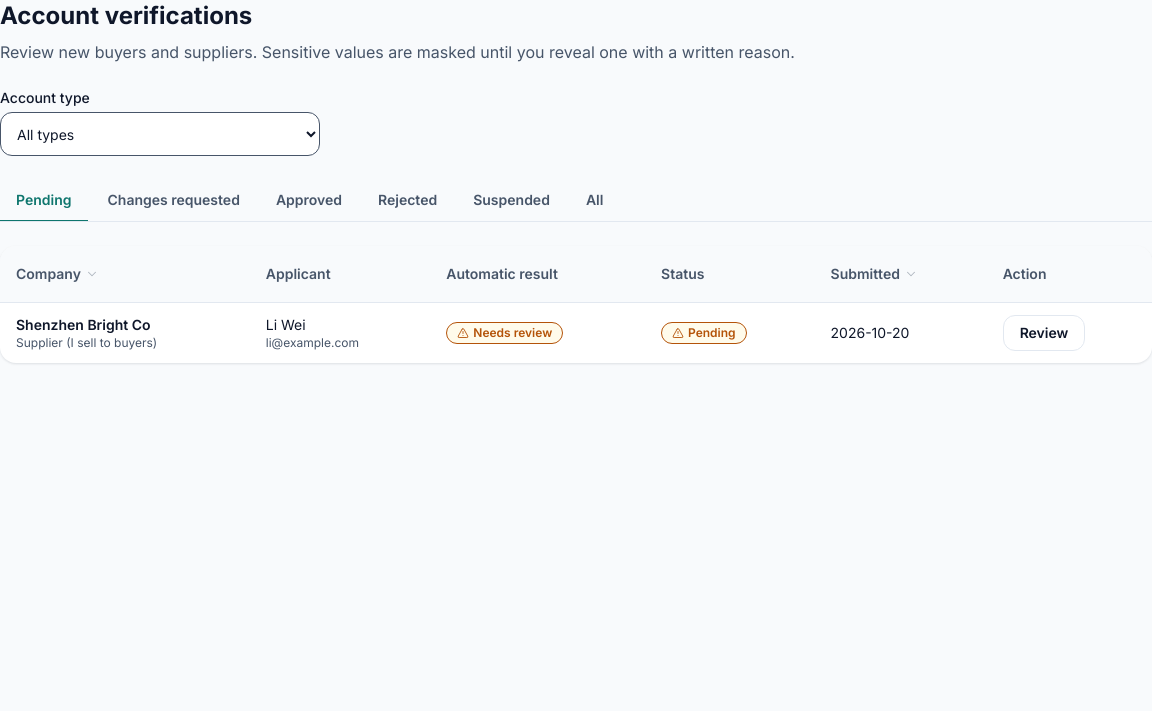
Test case: VerificationsPage › reveals a value only with a reason of at least 10 characters
Click the button with aria-label "Review: Shenzhen Bright Co": (1044, 333) [1003,315,1085,351]
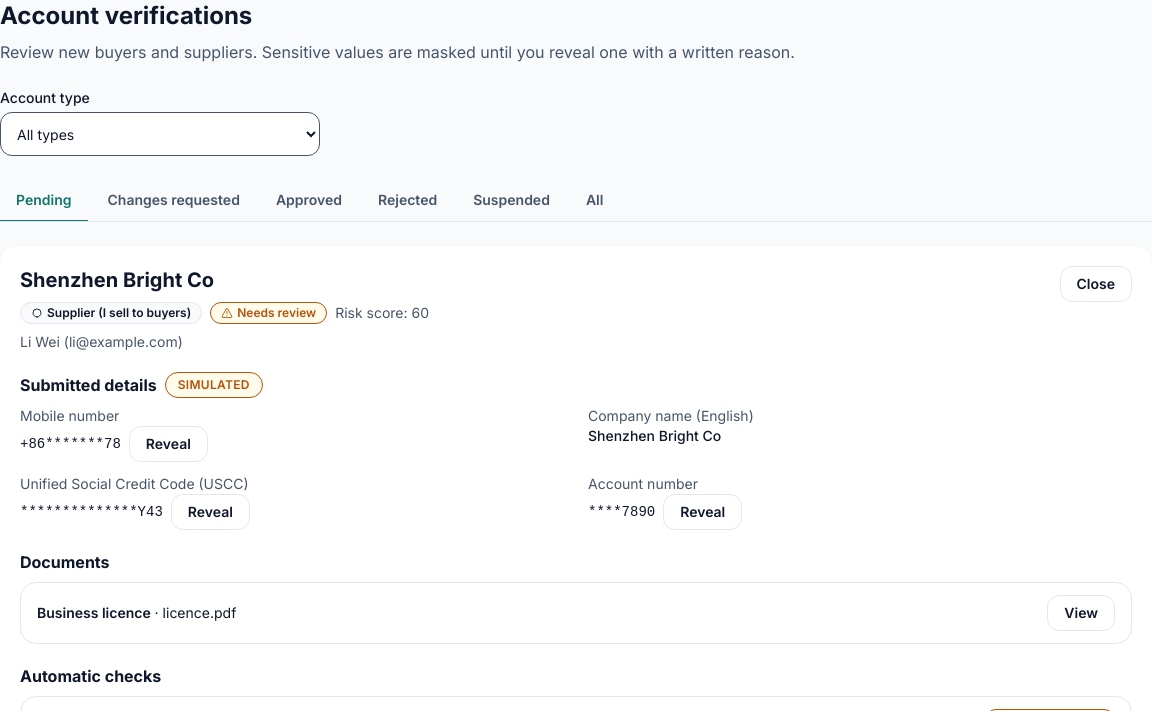
Result: the heading "Shenzhen Bright Co" is shown at [20,268,214,292]
Click the button with aria-label "Reveal: Unified Social Credit Code": (210, 512) [171,494,250,530]
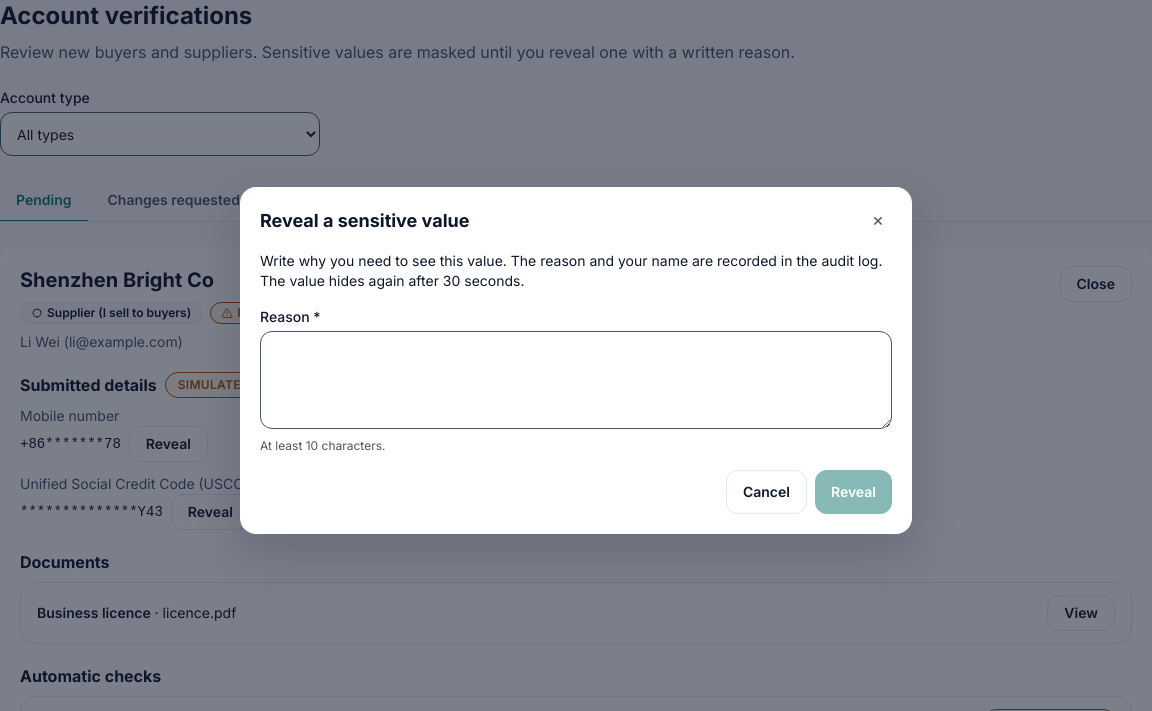
Result: the button "Reveal" is disabled at [815,470,892,514]
In the text box labelled "Reason *": (576, 380) [260,330,892,428], type "too short"
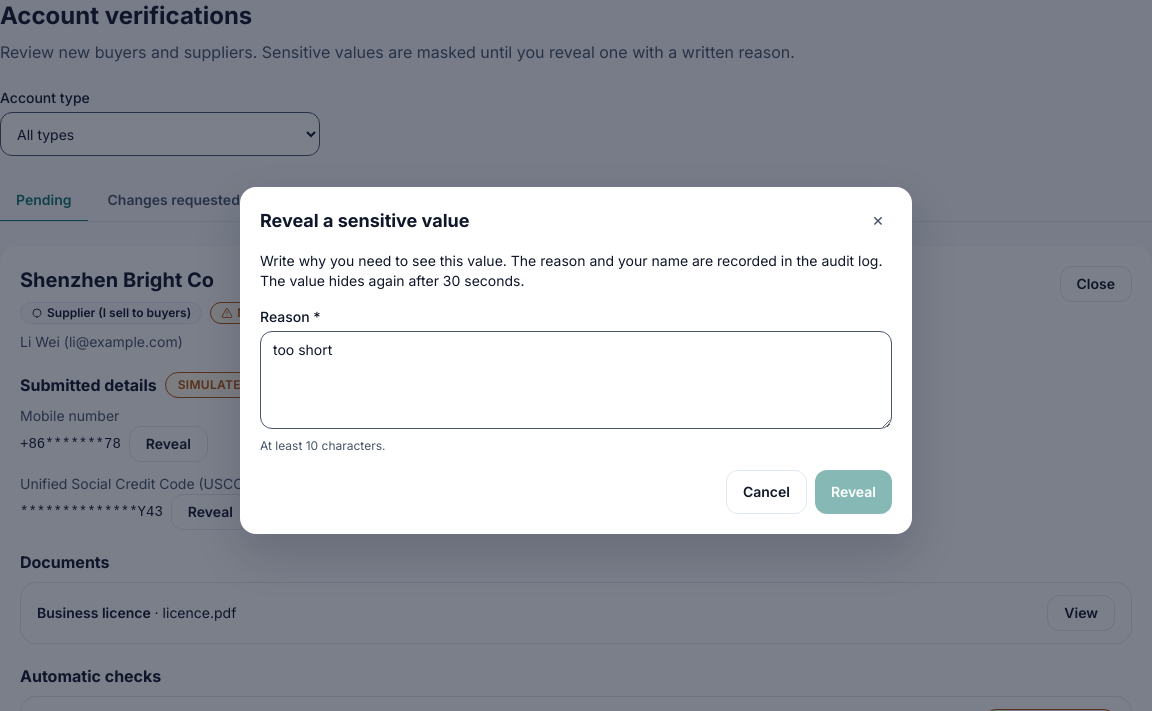
Result: the button "Reveal" is disabled at [815,470,892,514]
Replace the text in the text box labelled "Reason *" with "Matching against the licence scan": (576, 380) [260,330,892,428]
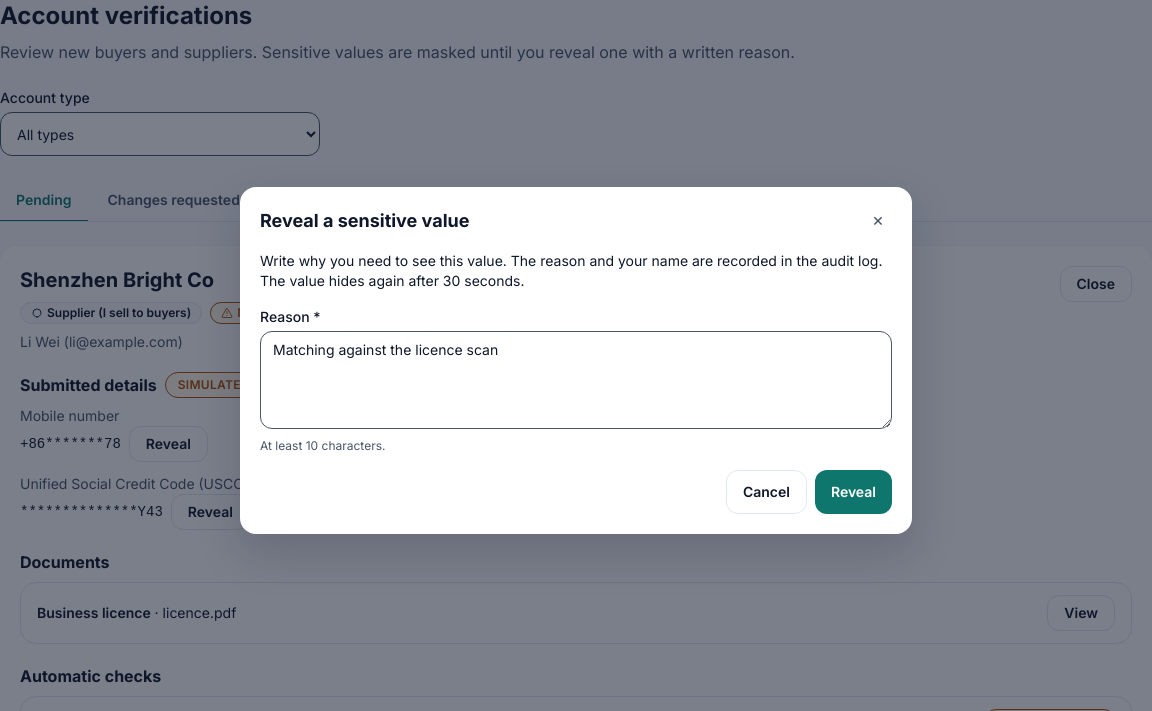
Click the button "Reveal": (853, 492) [815,470,892,514]
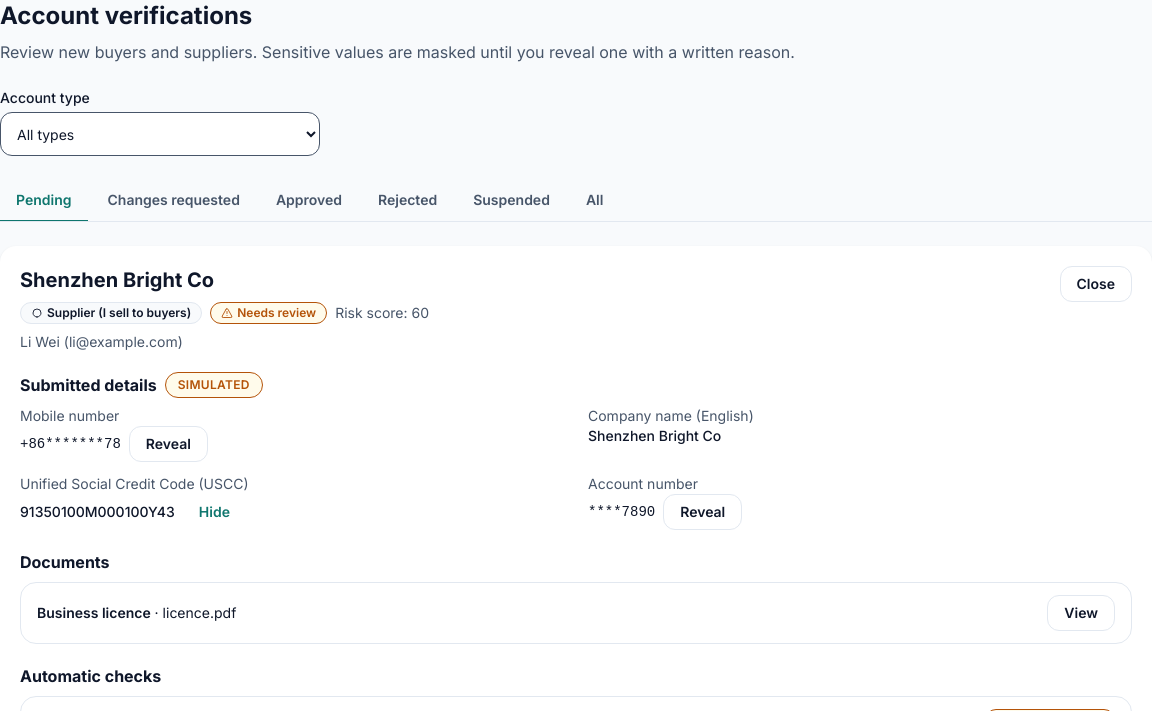
Result: the text "91350100M000100Y43" is shown at [20,502,175,522]
Click the button with aria-label "Hide: Unified Social Credit Code": (214, 512) [183,494,246,530]
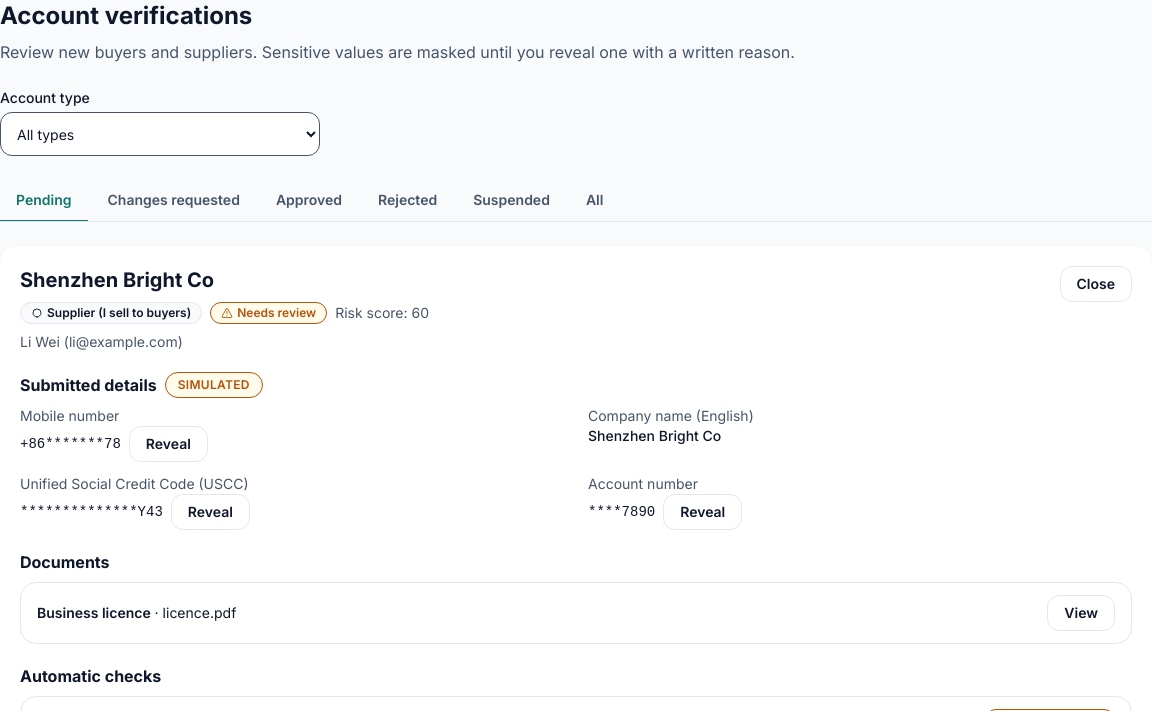
Result: the text "91350100M000100Y43" is gone
